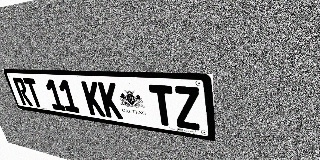1: (56, 80, 80, 113), (43, 79, 66, 111)
K: (97, 82, 123, 119), (81, 81, 106, 117)
R: (12, 77, 33, 106)
T: (148, 84, 176, 127), (23, 78, 44, 108)
Z: (172, 86, 201, 131)
